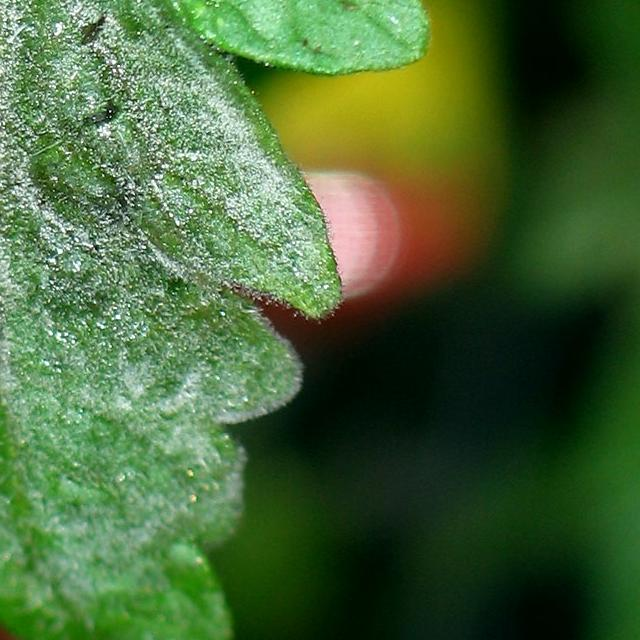Tomato leaf late blight: (0, 0, 419, 640)
